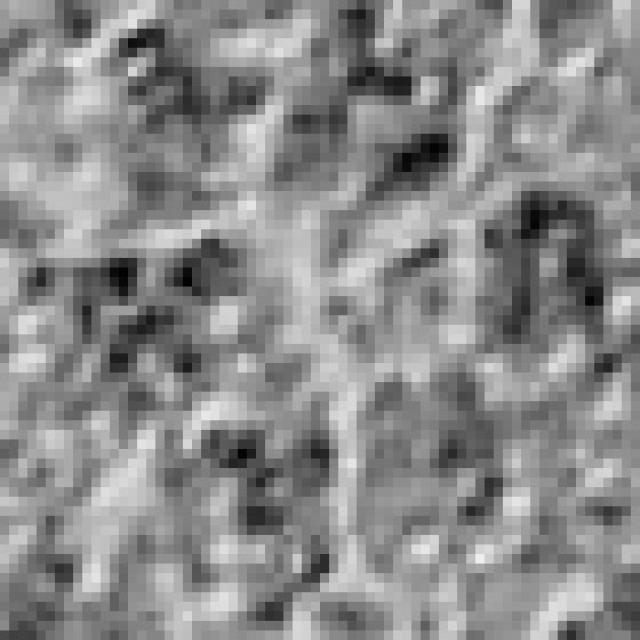inner: (239, 205, 472, 413)
lobe: (14, 228, 256, 450), (118, 417, 340, 627), (266, 22, 486, 207), (84, 19, 277, 228), (354, 364, 509, 592), (478, 180, 613, 367)
outer: (0, 0, 640, 640)
